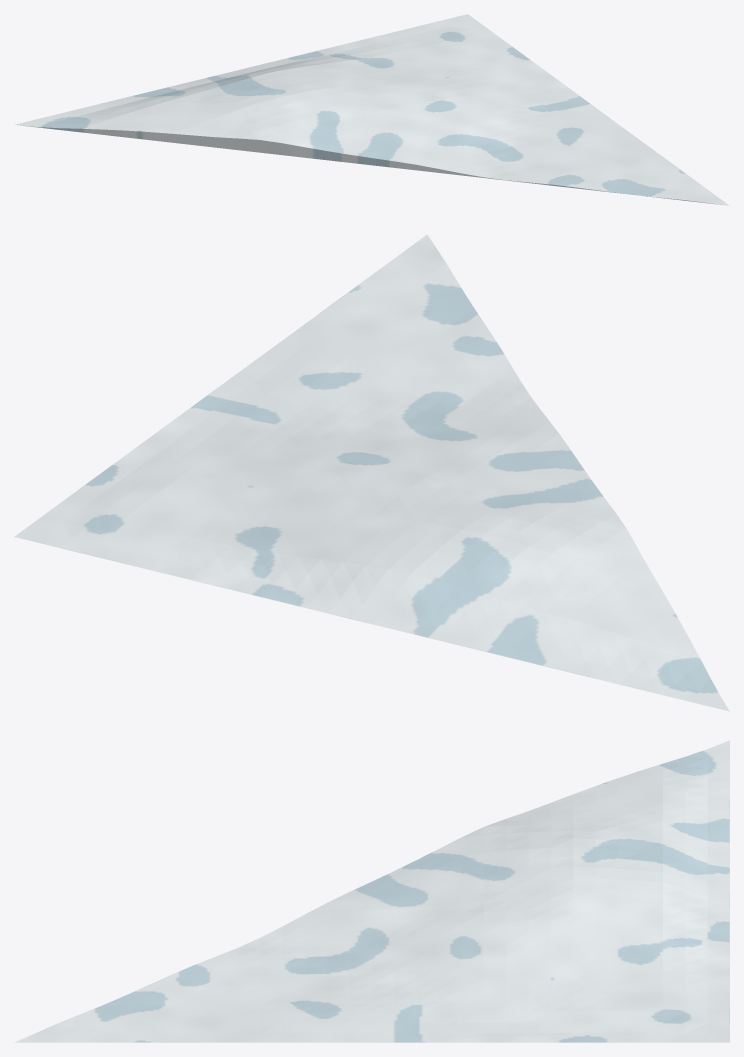
The model's file is Snow_Flat_06_SE.obj.
3 renders of one model, top to bottom at view 1: azimuth 30°, elevation 25°; view 2: azimuth 150°, elevation 25°; view 3: azimuth 270°, elevation 25°, orthographic. The views are drawn at different scales.
Size of the model in its own units: 10 by 0.3906 by 10.
1 material, 1 textured.
